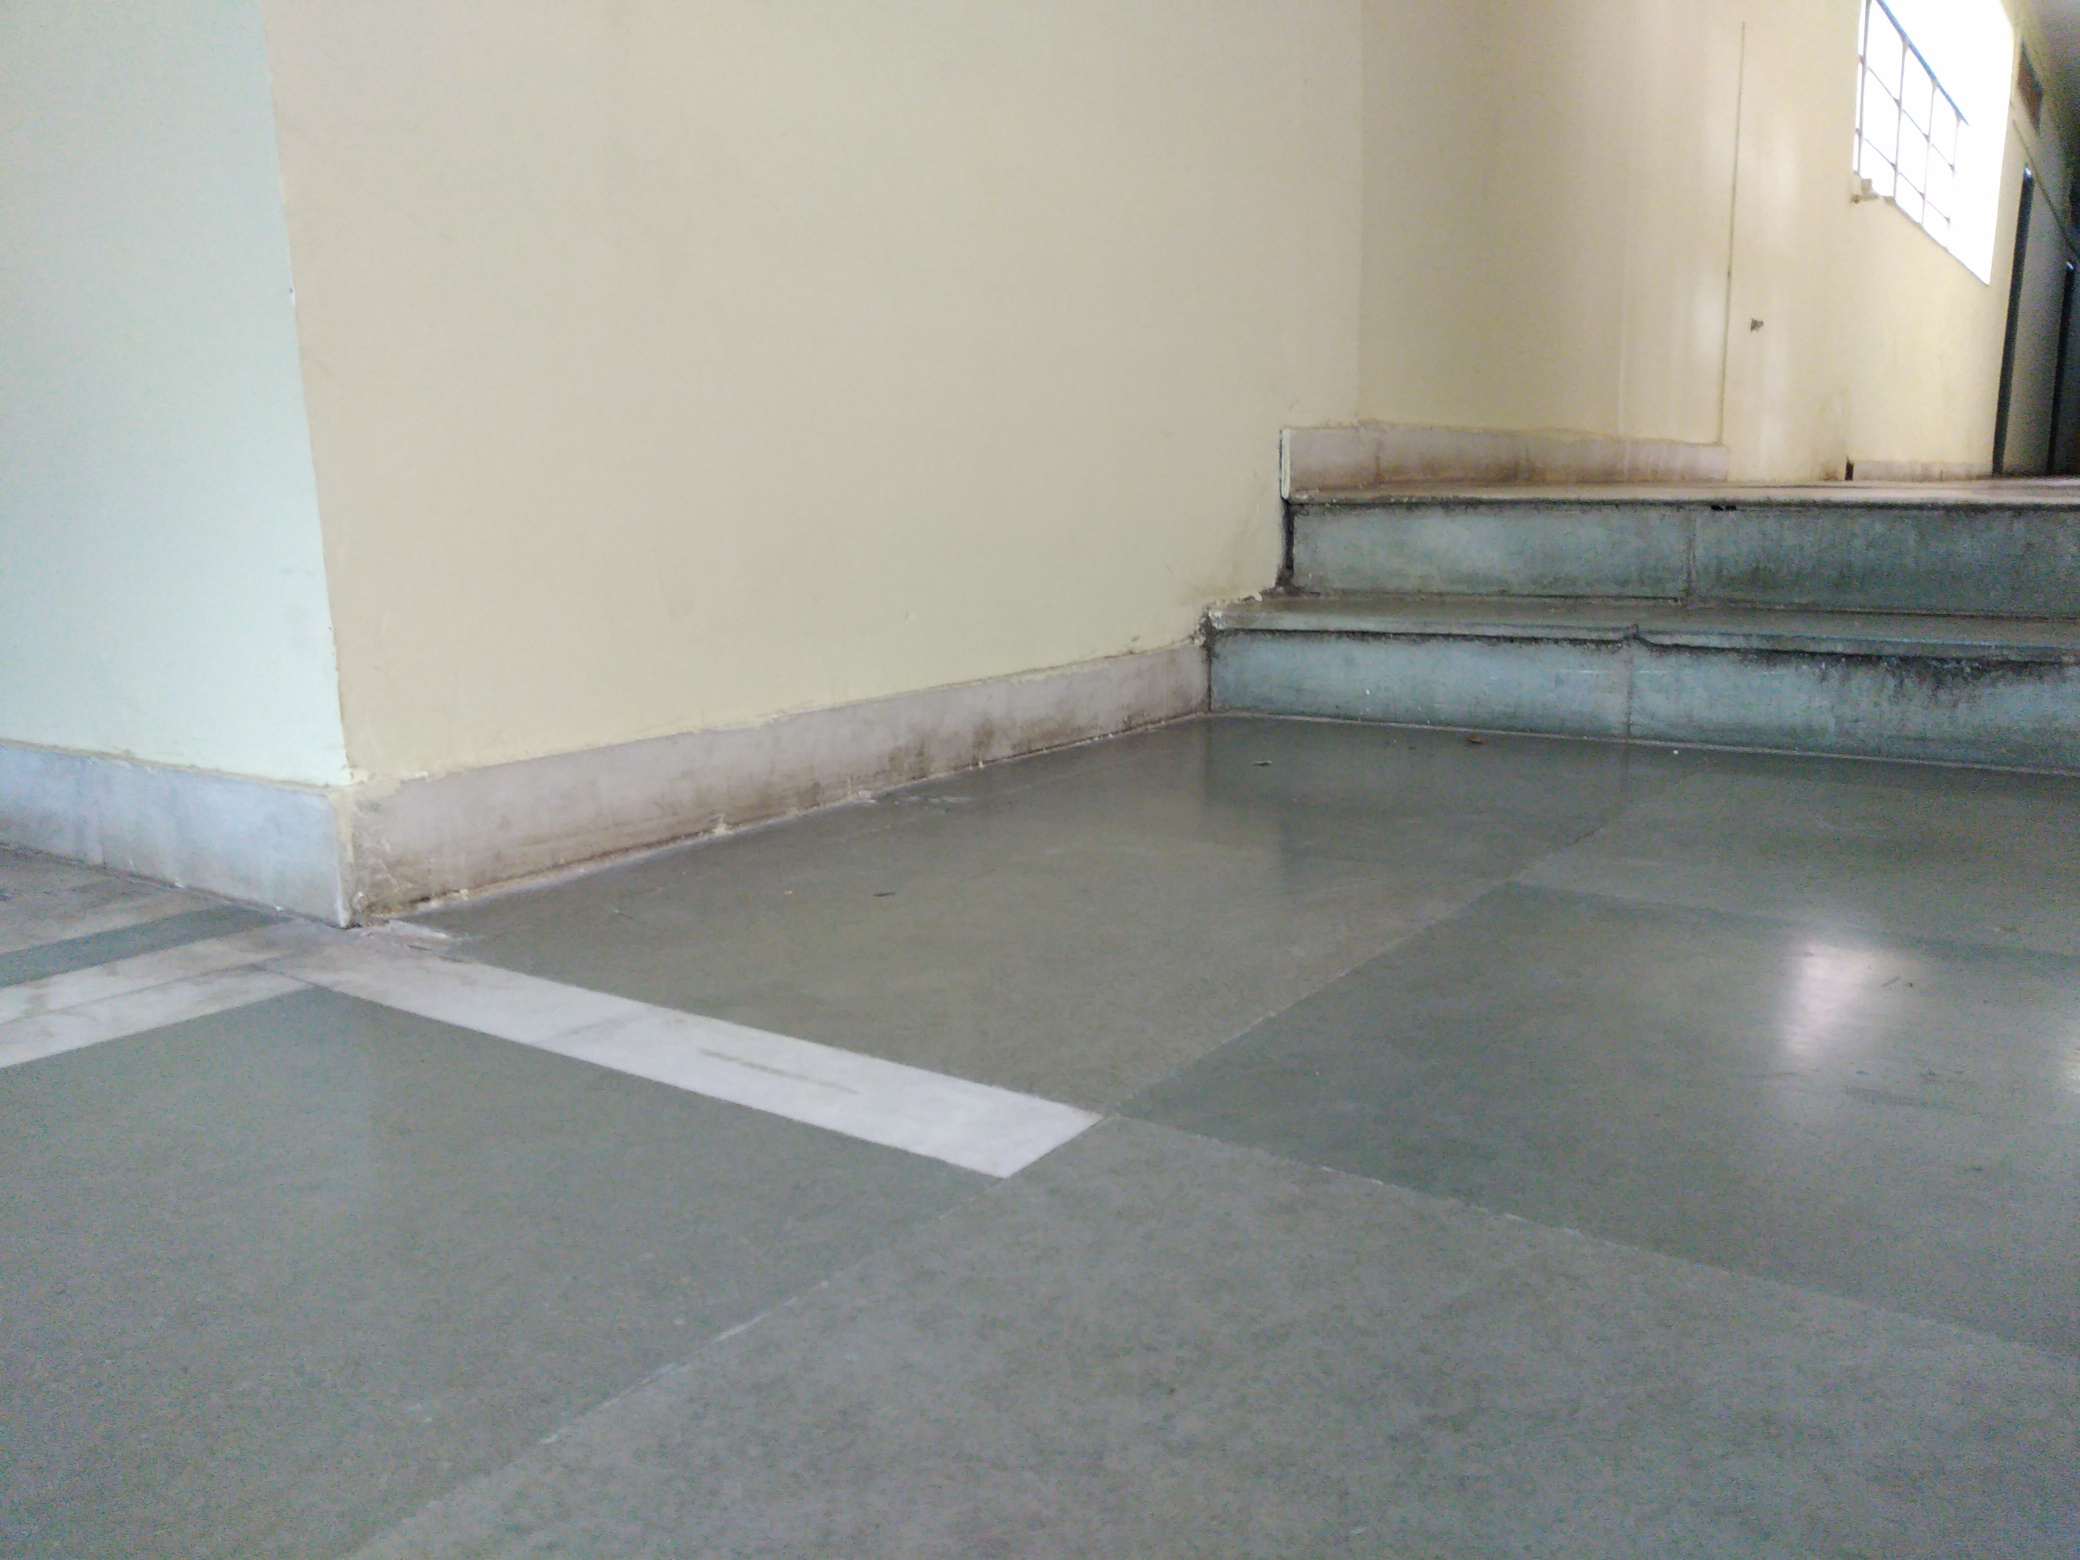stairs_up: (1197, 483, 2065, 723)
